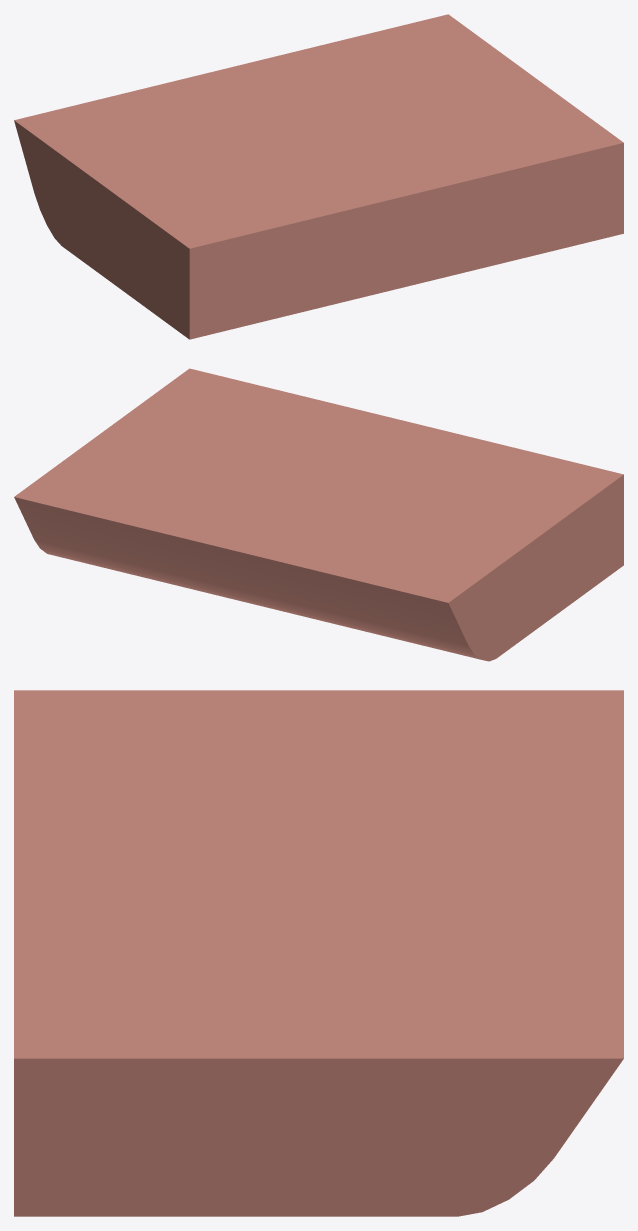
File: BasicTerrace10m.fbx
3 renders of one model, top to bottom at view 1: azimuth 30°, elevation 25°; view 2: azimuth 150°, elevation 25°; view 3: azimuth 270°, elevation 25°, orthographic. The views are drawn at different scales.
Visible parts, largest first — view 1: BasicTerrace10m.006; view 2: BasicTerrace10m.006; view 3: BasicTerrace10m.006.
Part boxes in pixels (x1,y1,x2,y2): BasicTerrace10m.006: [14, 14, 623, 339]; BasicTerrace10m.006: [14, 368, 623, 661]; BasicTerrace10m.006: [14, 690, 623, 1216].
Size of the model in its own units: 1000 by 200 by 700.
